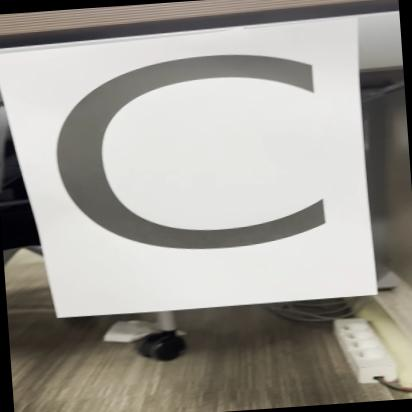seat: (0, 7, 392, 326)
